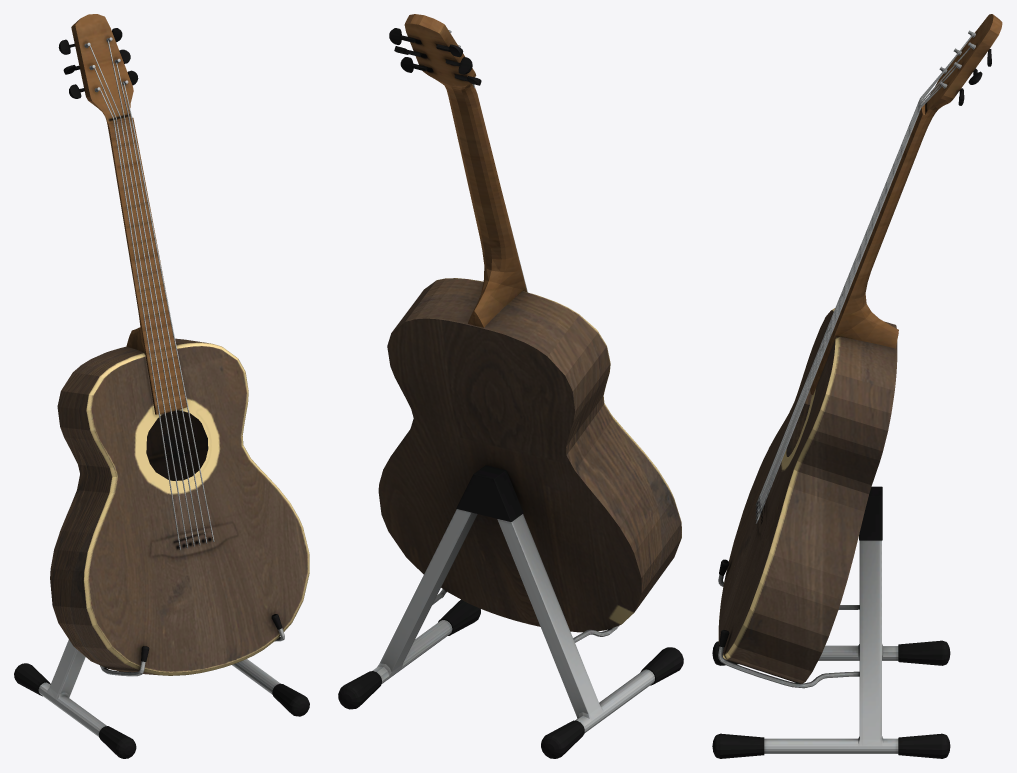
File: instrument1.obj
3 views of the same model, side by side, from view 1: azimuth 30°, elevation 25°; view 2: azimuth 150°, elevation 25°; view 3: azimuth 270°, elevation 25° (orthographic). The views are drawn at different scales.
Bounding box in the file's own units: 0.3324 × 0.9 × 0.3407.
Materials: 1 (1 with a texture image).
